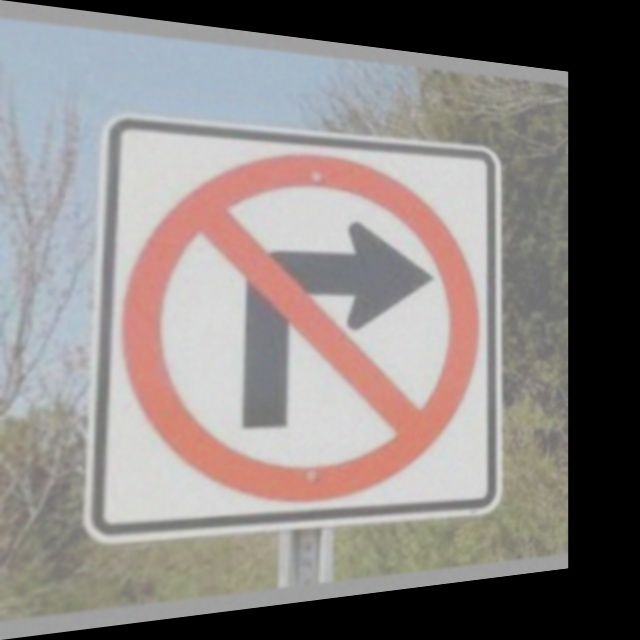Right_Turn_Prohibited: (119, 119, 484, 517)
